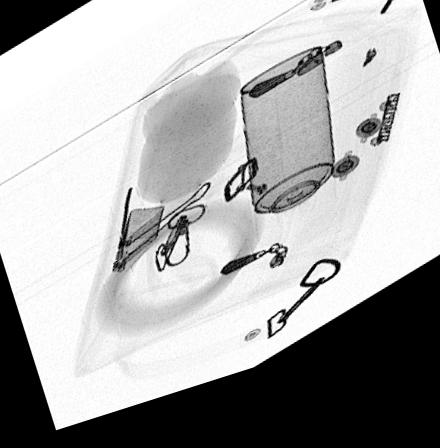Sprayer: (238, 64, 336, 261)
